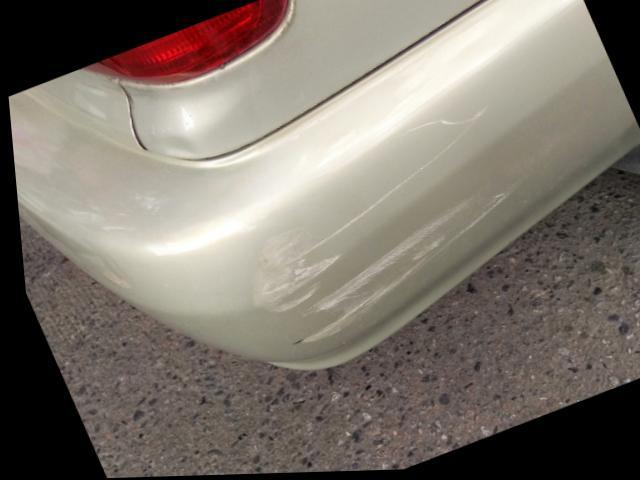scratch: (240, 192, 496, 348)
